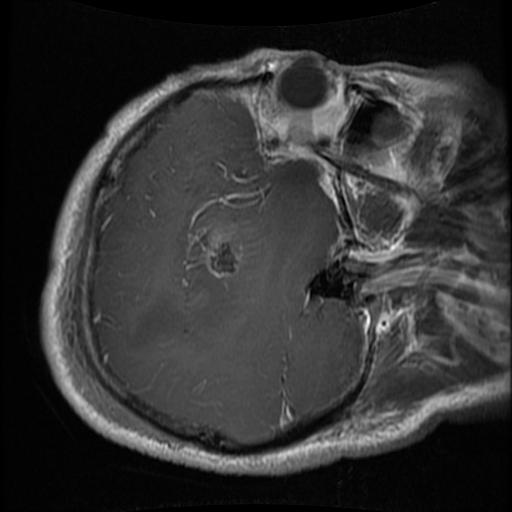glioma: (208, 237, 239, 277)
